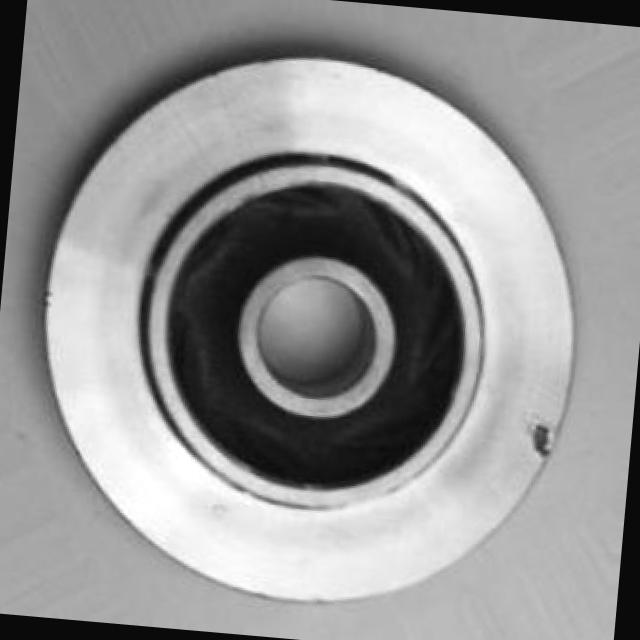Defect: (524, 411, 570, 470), (34, 284, 59, 314)
